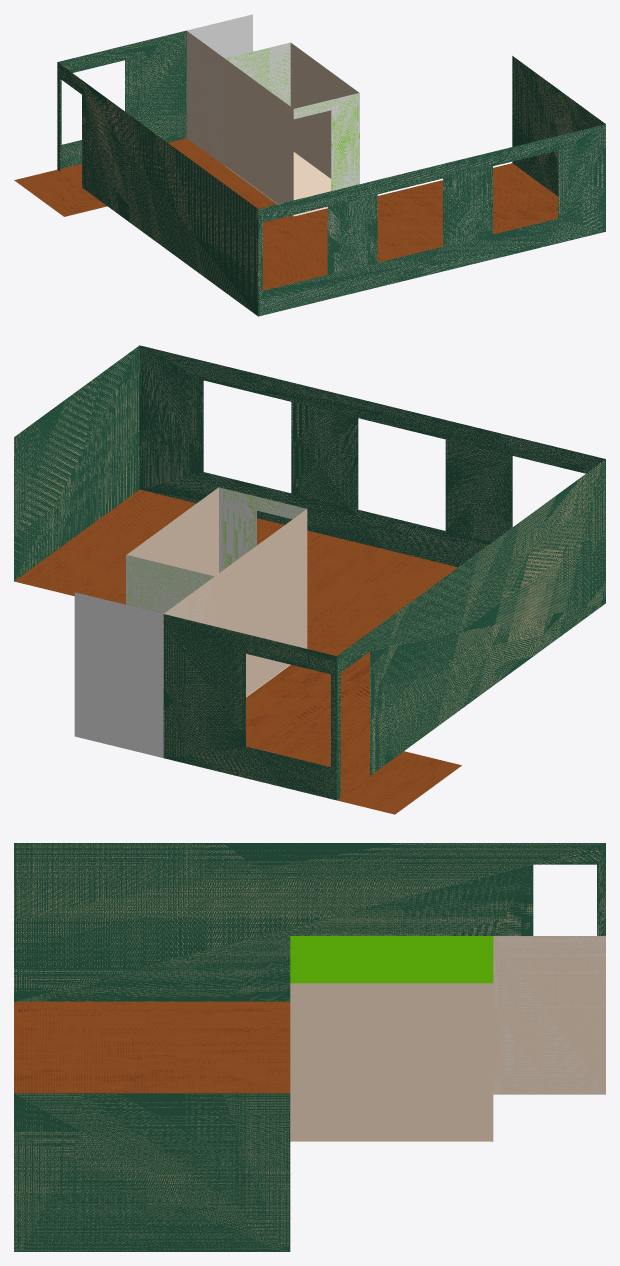
The picture shows the model from 3 angles, top to bottom: view 1: azimuth 30°, elevation 25°; view 2: azimuth 150°, elevation 25°; view 3: azimuth 270°, elevation 25°; orthographic projection. The views are drawn at different scales.
Parts seen in each view (by area): view 1: SketchUp.003_ID36; view 2: SketchUp.003_ID36; view 3: SketchUp.003_ID36.
Part boxes in pixels (x1=…): SketchUp.003_ID36: x1=14, y1=14, x2=605, y2=316; SketchUp.003_ID36: x1=14, y1=345, x2=605, y2=814; SketchUp.003_ID36: x1=14, y1=843, x2=605, y2=1251.
Bounding box in the file's own units: 9 × 2.36 × 8.
Materials: 7 (1 with a texture image).
